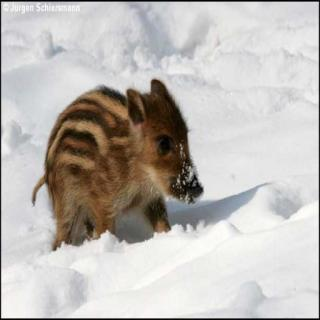Pig: (42, 69, 214, 262)
